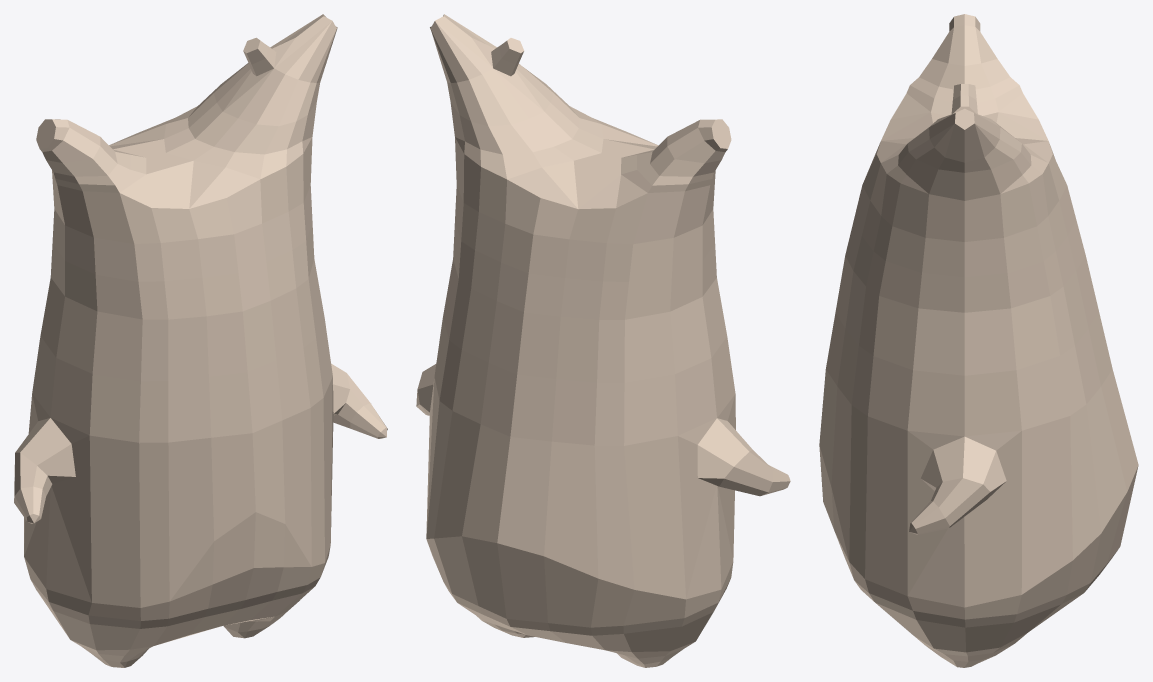
Rendered from frame_0010.obj.
3 views of the same model, side by side, from view 1: azimuth 30°, elevation 25°; view 2: azimuth 150°, elevation 25°; view 3: azimuth 270°, elevation 25° (orthographic).
Visible parts, largest first — view 1: korok; view 2: korok; view 3: korok.
Part boxes in pixels (x1,y1,x2,y2): korok: (14,14,387,667); korok: (416,14,790,667); korok: (819,14,1138,667).
Bounding box in the file's own units: 1.38 × 2.2 × 1.07.
